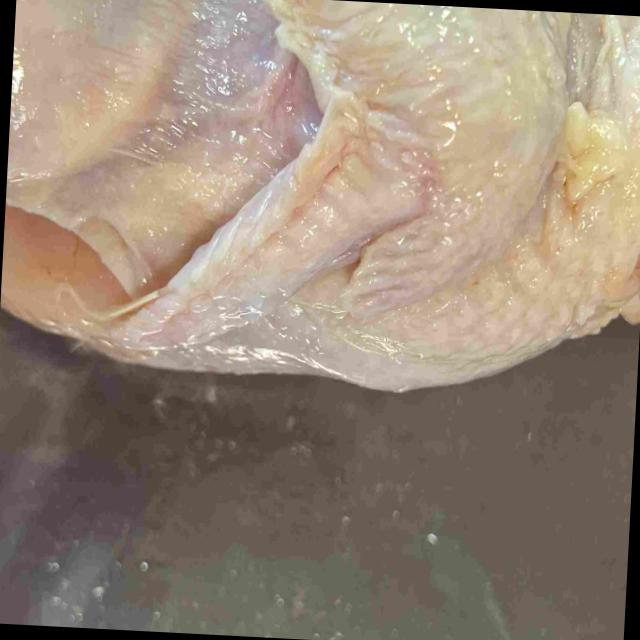wing: (85, 0, 564, 353)
